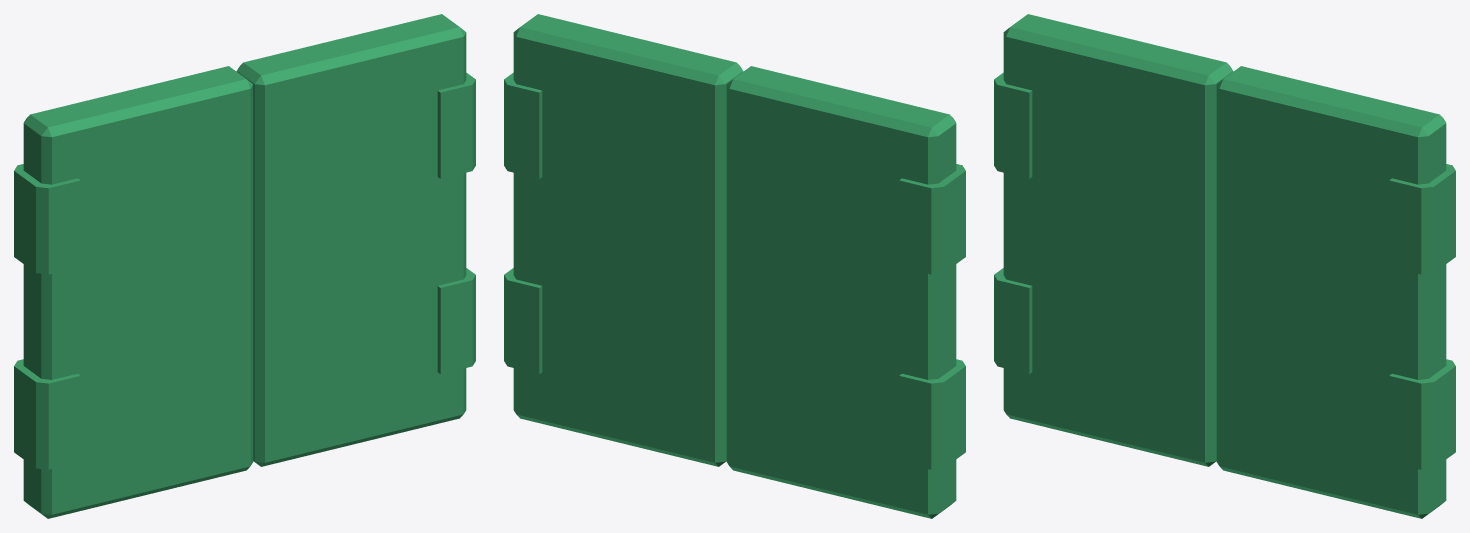
The model's file is maindoor.fbx.
The picture shows the model from 3 angles, left to right: view 1: azimuth 30°, elevation 25°; view 2: azimuth 150°, elevation 25°; view 3: azimuth 330°, elevation 25°; orthographic projection.
Visible parts, largest first — view 1: polySurface2, polySurface6; view 2: polySurface2, polySurface6; view 3: polySurface6, polySurface2.
Boxes of the visible parts, x1,y1,x2,y2 form: polySurface2: (14,66,253,518); polySurface6: (236,14,475,466); polySurface2: (726,66,965,518); polySurface6: (504,14,743,466); polySurface6: (1216,66,1455,518); polySurface2: (994,14,1233,466).
Bounding box in the file's own units: 10.44 × 8.87 × 1.29.
1 material, 1 textured.
